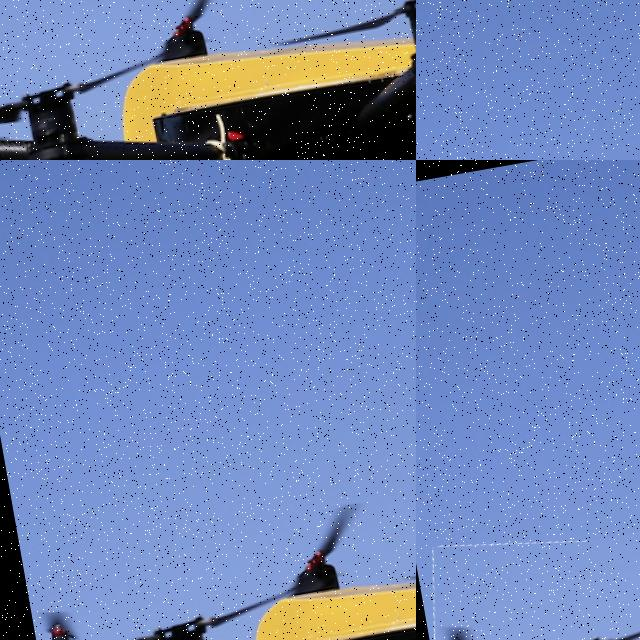drone: (417, 459, 640, 640)
